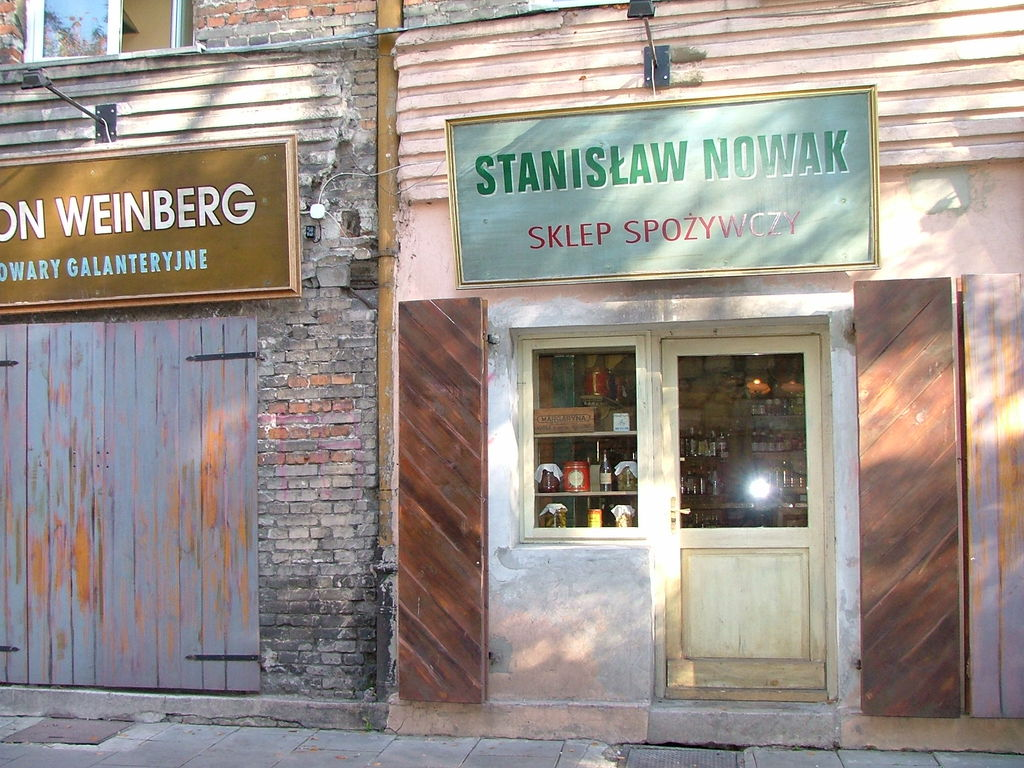door: (660, 336, 828, 709)
signboard: (441, 112, 871, 267), (1, 136, 295, 308)
window: (531, 341, 642, 537)
